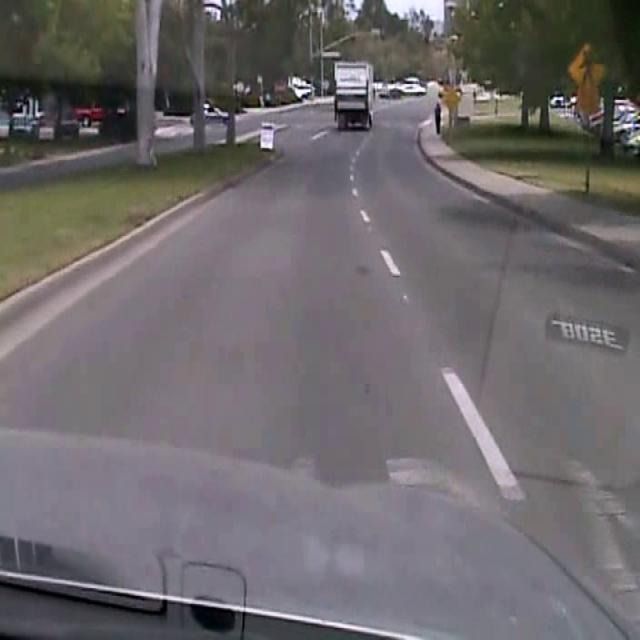pedestrianCrossing: (566, 41, 608, 92)
